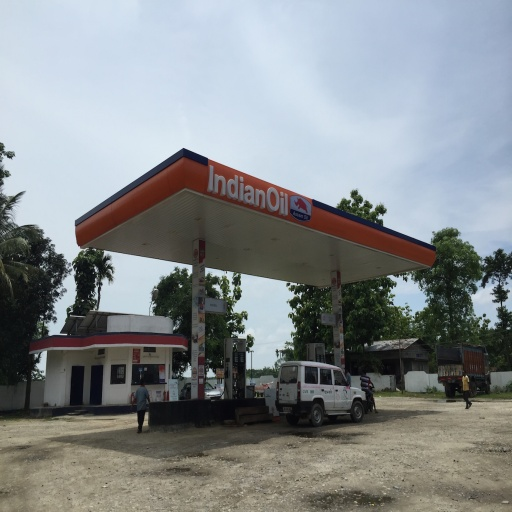roof: (74, 148, 437, 285)
